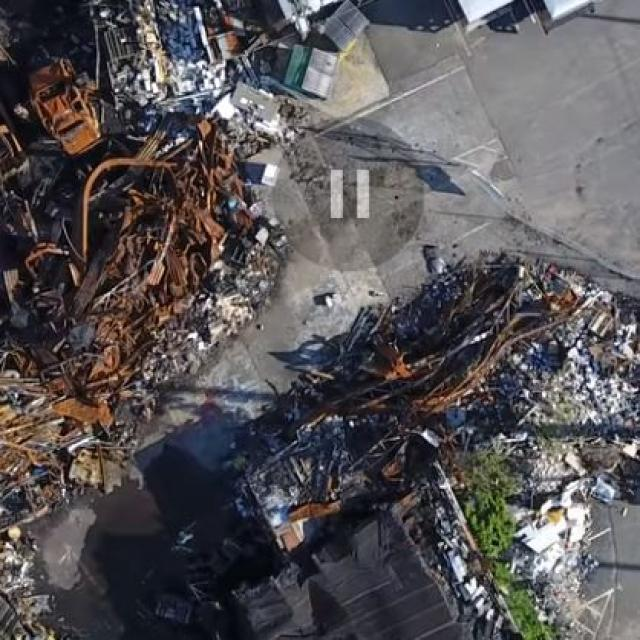collapsed_building: (238, 266, 626, 638), (0, 0, 259, 434)
